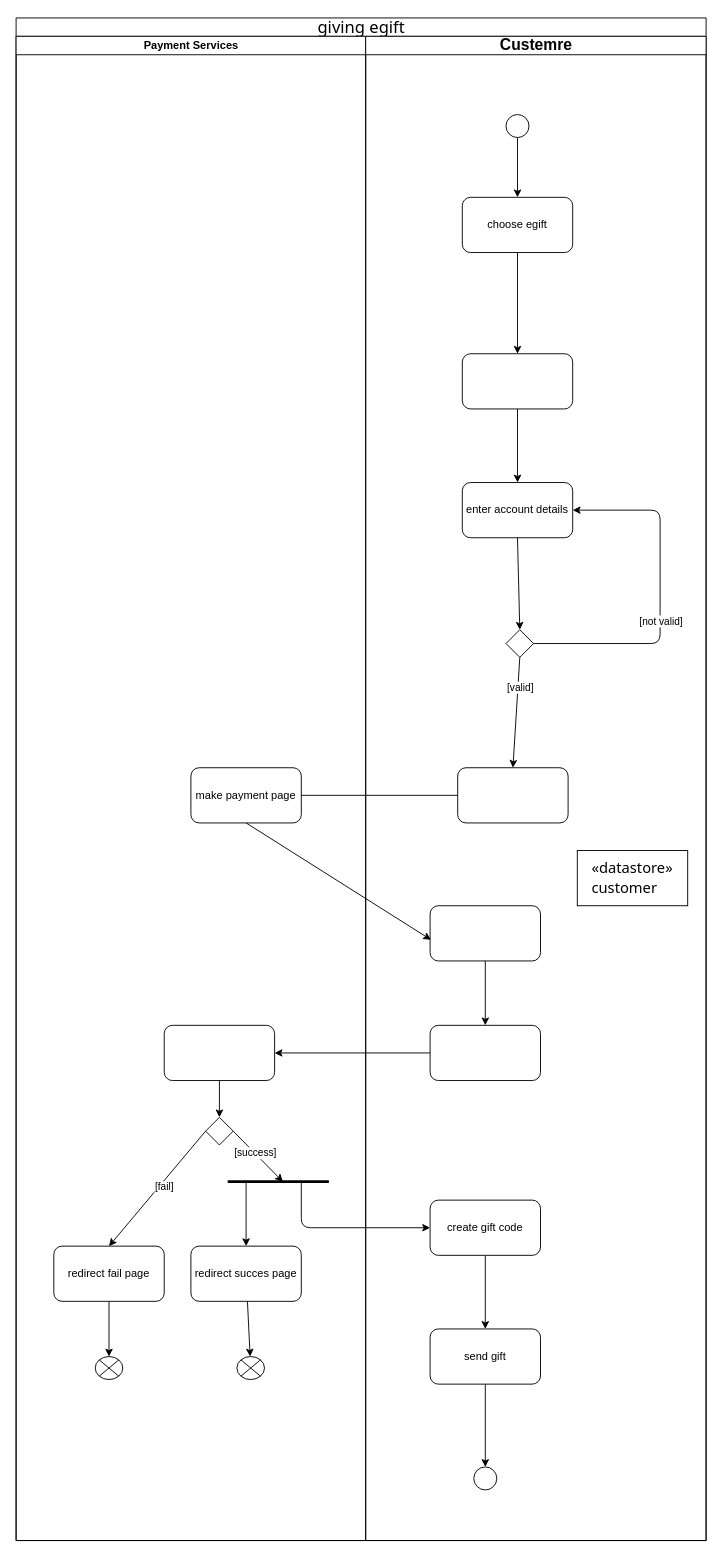
This 722x1557 diagram has some shape labels left out. Here are the shapes that lost their labels. From the top down, the centre of each, then its label:
At (x=517, y=381): "choose curency".
At (x=512, y=795): "request payment".
At (x=484, y=933): "redirect payment page".
At (x=219, y=1052): "check payment".
At (x=484, y=1052): "pay".
